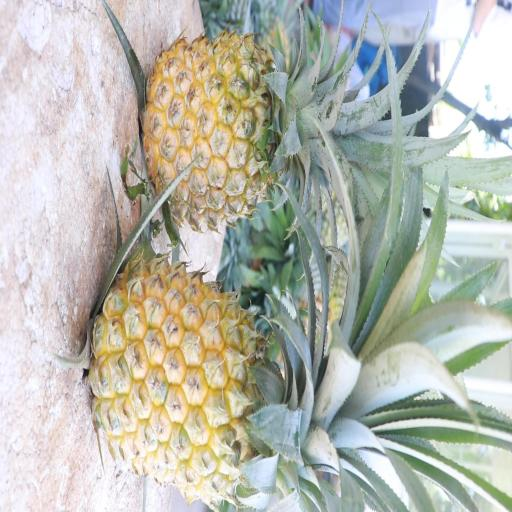Pineapple - v8 v1: (82, 249, 403, 503), (134, 23, 372, 236)
